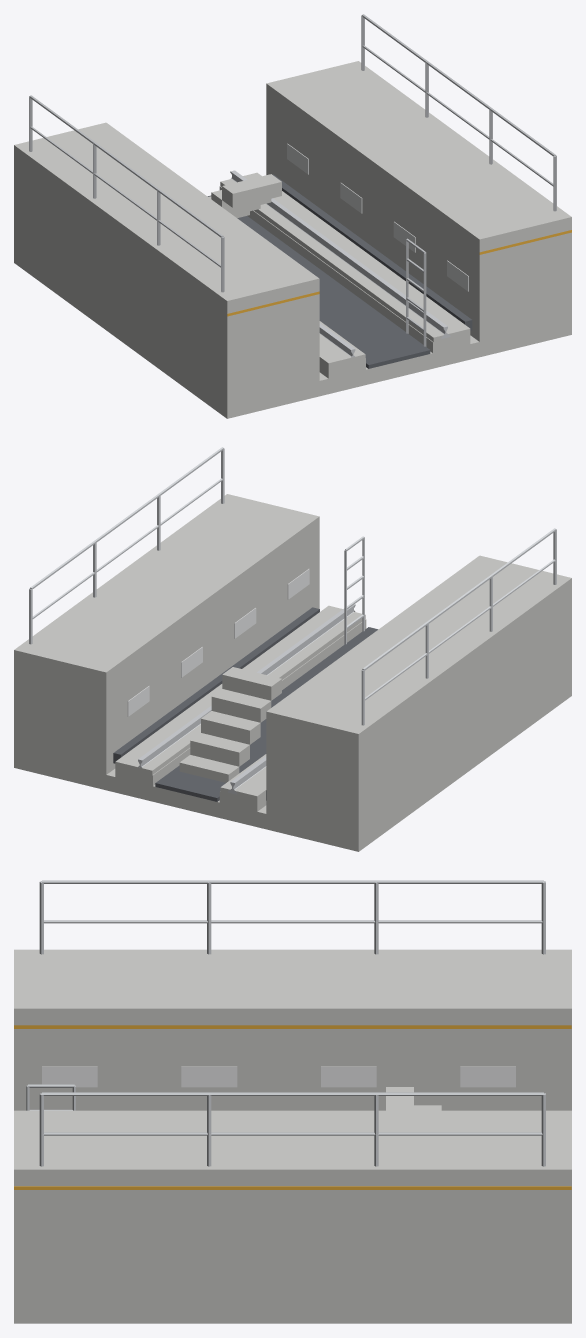
File: modern-rail-and-metro-network-inspection-pit-module-73d800e5__13711.glb
3 views of the same model, one above another, from view 1: azimuth 30°, elevation 25°; view 2: azimuth 150°, elevation 25°; view 3: azimuth 270°, elevation 25° (orthographic). The views are drawn at different scales.
Parts seen in each view (by area): view 1: inspection-pit-module; view 2: inspection-pit-module; view 3: inspection-pit-module.
Part boxes in pixels (box(x1,y1,x2,y2)): inspection-pit-module: box(14, 14, 571, 418); inspection-pit-module: box(14, 447, 571, 851); inspection-pit-module: box(14, 880, 571, 1323).
Bounding box in the file's own units: 5.6 × 2.7 × 6.
